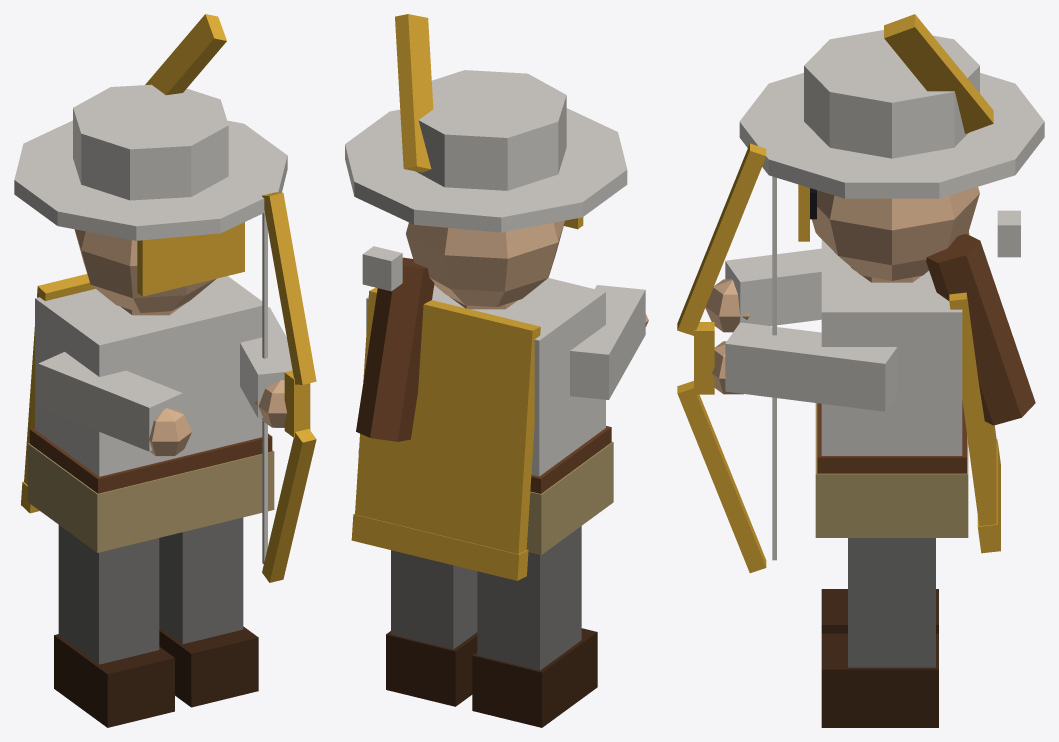
File: u_sniper.fbx
3 renders of one model, left to right at view 1: azimuth 30°, elevation 25°; view 2: azimuth 150°, elevation 25°; view 3: azimuth 270°, elevation 25°, orthographic. The views are drawn at different scales.
Parts seen in each view (by area): view 1: u_sniper_Body, u_sniper_LegR, u_sniper_LegL; view 2: u_sniper_Body, u_sniper_LegR, u_sniper_LegL; view 3: u_sniper_Body, u_sniper_LegL, u_sniper_LegR.
Boxes of the visible parts, <box> form: u_sniper_Body: <box>14,14,316,582</box>; u_sniper_LegR: <box>54,525,174,727</box>; u_sniper_LegL: <box>159,517,258,707</box>; u_sniper_Body: <box>345,14,648,580</box>; u_sniper_LegR: <box>472,526,597,727</box>; u_sniper_LegL: <box>386,550,477,706</box>; u_sniper_Body: <box>677,14,1044,573</box>; u_sniper_LegL: <box>821,538,938,727</box>; u_sniper_LegR: <box>821,589,938,633</box>.
Bounding box in the file's own units: 0.4977 × 1.33 × 0.6258.
